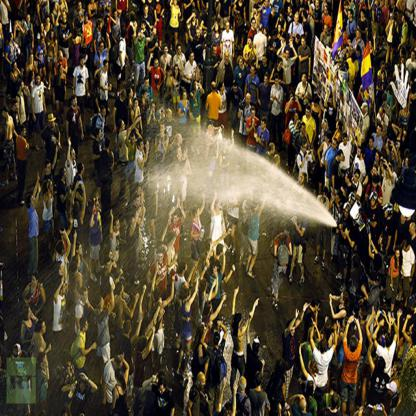face: (80, 385, 86, 394), (201, 380, 206, 390), (84, 292, 89, 301), (159, 255, 164, 264), (173, 216, 178, 225), (291, 328, 296, 337), (138, 215, 142, 225), (43, 325, 47, 334), (33, 278, 37, 287), (101, 299, 105, 308), (133, 220, 137, 229), (300, 176, 304, 185), (387, 170, 391, 179), (97, 195, 101, 204), (118, 364, 124, 370), (72, 153, 77, 160), (73, 100, 78, 107), (159, 388, 164, 395), (380, 320, 385, 327), (45, 357, 48, 368), (107, 263, 111, 271), (79, 246, 83, 254), (14, 104, 18, 112), (37, 77, 41, 85), (122, 123, 126, 131), (409, 325, 414, 331), (117, 224, 121, 231), (103, 111, 107, 118), (101, 45, 105, 52), (214, 267, 218, 274), (146, 142, 150, 149), (161, 127, 165, 134), (195, 84, 199, 91), (191, 55, 195, 62), (155, 62, 159, 69), (164, 48, 168, 55), (397, 252, 401, 259), (345, 210, 349, 217), (401, 216, 405, 223), (355, 175, 359, 182), (374, 181, 378, 188), (381, 162, 385, 169), (304, 146, 308, 153), (303, 127, 307, 134), (330, 109, 334, 116), (275, 79, 279, 86), (29, 310, 32, 319), (86, 323, 89, 332), (63, 285, 66, 294), (97, 202, 100, 211), (394, 365, 397, 374), (410, 227, 413, 236), (122, 287, 125, 295), (51, 184, 54, 192), (51, 121, 55, 127), (81, 60, 85, 66), (137, 200, 141, 206), (181, 138, 184, 146), (178, 48, 182, 54), (296, 16, 299, 24), (373, 168, 377, 174), (389, 164, 393, 170), (344, 139, 348, 145), (302, 41, 306, 47), (209, 249, 213, 255), (61, 265, 64, 272), (32, 199, 35, 206), (48, 166, 51, 173), (65, 171, 68, 178), (110, 254, 113, 261), (24, 130, 27, 137), (79, 4, 82, 11), (185, 266, 188, 273), (139, 188, 142, 195), (179, 151, 182, 158), (185, 150, 188, 157), (141, 143, 144, 150), (145, 93, 148, 100), (197, 68, 200, 75), (176, 68, 179, 75), (141, 32, 144, 39), (198, 32, 201, 39), (146, 8, 149, 15), (372, 199, 375, 206), (278, 158, 281, 165), (273, 148, 276, 155), (262, 123, 265, 130), (215, 50, 218, 57), (227, 40, 230, 47), (252, 54, 255, 61), (227, 25, 230, 32), (253, 21, 256, 28), (263, 59, 266, 66), (280, 62, 283, 69), (287, 52, 290, 59), (358, 150, 361, 157), (393, 150, 396, 157), (398, 153, 401, 160), (333, 143, 336, 150), (323, 123, 326, 130), (307, 110, 310, 117), (362, 109, 365, 116), (304, 78, 307, 85), (265, 78, 268, 85), (378, 128, 381, 135), (82, 167, 85, 174), (211, 243, 214, 250), (196, 254, 199, 261), (203, 251, 206, 258), (209, 254, 212, 261), (212, 127, 215, 134), (285, 409, 288, 416), (187, 285, 191, 290), (174, 1, 178, 6), (324, 193, 328, 198), (324, 5, 328, 10), (99, 132, 102, 138), (3, 112, 6, 118), (22, 84, 25, 90), (31, 57, 34, 63), (42, 40, 45, 46), (52, 33, 55, 39), (41, 26, 44, 32), (63, 14, 66, 20), (100, 24, 103, 30), (85, 16, 88, 22), (61, 56, 64, 62), (197, 211, 200, 217), (218, 203, 221, 209), (132, 139, 135, 145), (169, 114, 172, 120), (146, 81, 149, 87), (131, 92, 134, 98), (185, 94, 188, 100), (142, 25, 145, 31), (340, 296, 343, 302), (317, 305, 320, 311), (342, 328, 345, 334), (385, 211, 388, 217), (232, 187, 235, 193), (220, 158, 223, 164), (252, 112, 255, 118), (248, 98, 251, 104), (221, 126, 224, 132), (252, 69, 255, 75), (240, 60, 243, 66), (226, 56, 229, 62), (222, 86, 225, 92), (247, 56, 250, 62), (249, 40, 252, 46), (200, 29, 203, 35), (279, 27, 282, 33), (288, 8, 291, 14), (337, 197, 340, 203), (406, 161, 409, 167), (370, 141, 373, 147), (325, 137, 328, 143), (296, 115, 299, 121), (291, 96, 294, 102), (284, 94, 287, 100), (357, 32, 360, 38), (411, 306, 414, 312), (412, 53, 415, 59), (382, 74, 385, 80), (382, 65, 385, 71), (370, 48, 373, 54), (224, 145, 227, 151), (388, 389, 391, 395), (229, 412, 233, 416), (309, 363, 311, 371), (60, 69, 63, 74), (15, 65, 18, 70), (47, 19, 50, 24), (27, 18, 30, 23), (55, 5, 58, 10), (107, 19, 110, 24), (19, 33, 22, 38), (153, 106, 156, 111), (162, 109, 165, 114), (158, 120, 161, 125), (135, 102, 138, 107), (170, 71, 173, 76), (154, 31, 157, 36), (351, 202, 354, 207), (216, 26, 219, 31), (207, 5, 210, 10), (254, 12, 257, 17), (266, 1, 269, 6), (290, 40, 293, 45), (341, 156, 344, 161), (292, 88, 295, 93), (315, 103, 318, 108), (330, 99, 333, 104), (296, 40, 299, 45), (350, 49, 353, 54), (330, 51, 333, 56), (323, 45, 326, 50), (349, 41, 352, 46), (347, 53, 350, 58), (347, 5, 350, 10), (310, 8, 313, 13), (369, 44, 372, 49), (398, 15, 401, 20), (378, 1, 381, 6), (380, 112, 383, 117), (400, 340, 402, 347), (205, 32, 207, 39), (376, 155, 378, 162), (203, 263, 205, 270), (106, 64, 108, 70), (60, 17, 63, 21), (151, 98, 154, 102), (128, 111, 131, 115), (193, 14, 195, 20), (343, 321, 345, 327), (404, 246, 406, 252), (380, 240, 382, 246), (257, 206, 259, 212), (219, 129, 222, 133), (235, 88, 238, 92), (215, 3, 217, 9), (264, 30, 266, 36), (274, 36, 277, 40), (360, 311, 362, 317), (371, 279, 373, 285), (346, 176, 348, 182), (325, 28, 327, 34), (343, 50, 346, 54), (333, 63, 336, 67), (349, 13, 351, 19), (316, 2, 319, 6), (350, 81, 352, 87), (402, 60, 405, 64), (401, 51, 403, 57), (391, 16, 394, 20), (397, 113, 399, 119), (400, 129, 402, 135), (187, 164, 189, 170), (12, 35, 14, 40), (33, 75, 35, 80), (164, 117, 166, 122), (115, 13, 117, 18), (240, 74, 242, 79), (283, 38, 285, 43), (281, 15, 283, 20), (397, 144, 399, 149), (296, 97, 298, 102), (302, 13, 304, 18), (337, 58, 339, 63), (362, 13, 364, 18), (367, 40, 369, 45), (403, 18, 405, 23), (347, 26, 349, 31), (404, 121, 406, 126), (216, 128, 218, 133), (123, 98, 126, 101), (38, 40, 40, 44), (273, 8, 275, 12), (258, 29, 260, 33), (312, 40, 314, 44), (340, 63, 342, 67), (345, 66, 347, 70), (331, 59, 333, 63), (339, 51, 341, 55), (367, 34, 369, 38), (392, 1, 394, 5), (396, 12, 398, 16), (386, 1, 388, 5), (325, 10, 327, 14), (382, 121, 384, 125), (357, 51, 359, 54), (415, 9, 416, 14), (353, 60, 355, 62), (377, 86, 378, 90)
